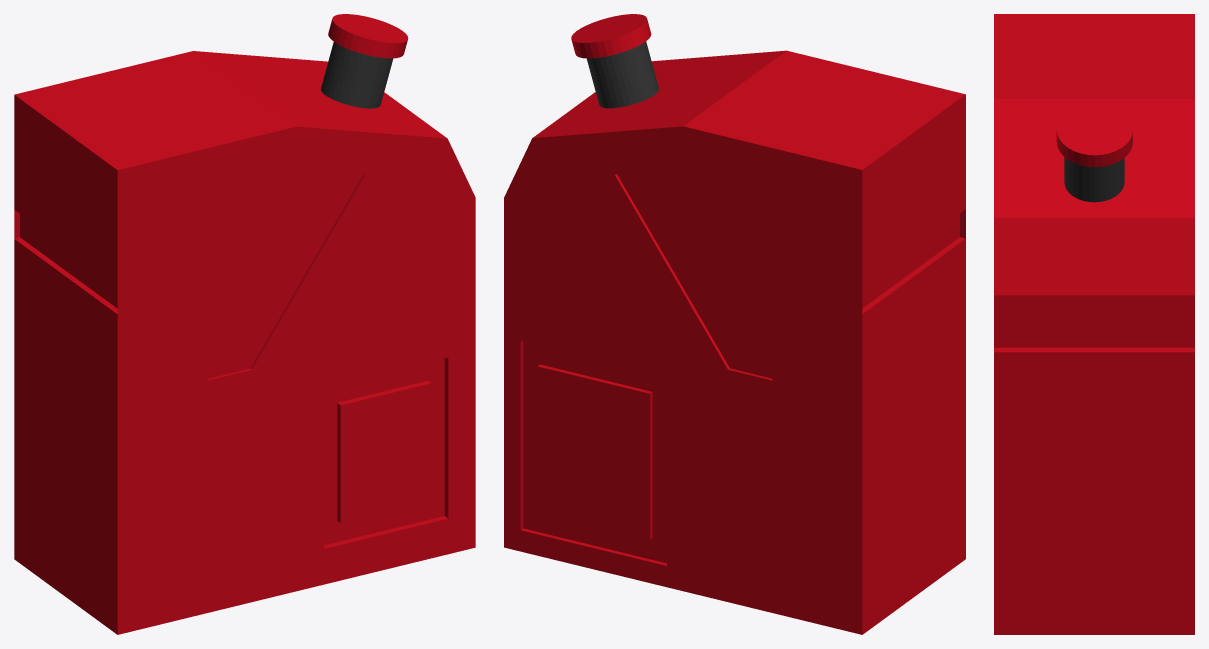
File: oilCan.fbx
The picture shows the model from 3 angles, left to right: view 1: azimuth 30°, elevation 25°; view 2: azimuth 150°, elevation 25°; view 3: azimuth 270°, elevation 25°; orthographic projection. The views are drawn at different scales.
Parts seen in each view (by area): view 1: Цилиндр.001; view 2: Цилиндр.001; view 3: Цилиндр.001.
Boxes of the visible parts, left/top/right/bottom form: Цилиндр.001: left=14, top=14, right=475, bottom=634; Цилиндр.001: left=504, top=14, right=965, bottom=634; Цилиндр.001: left=994, top=14, right=1194, bottom=634.
Size of the model in its own units: 200 by 269 by 100.
